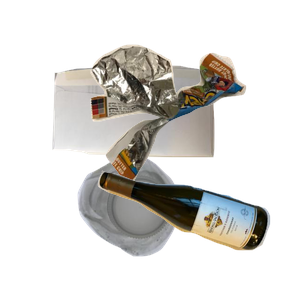glass: (95, 168, 300, 300)
paper: (50, 61, 257, 211)
plastic: (75, 154, 248, 300)
trash: (88, 42, 300, 219)
